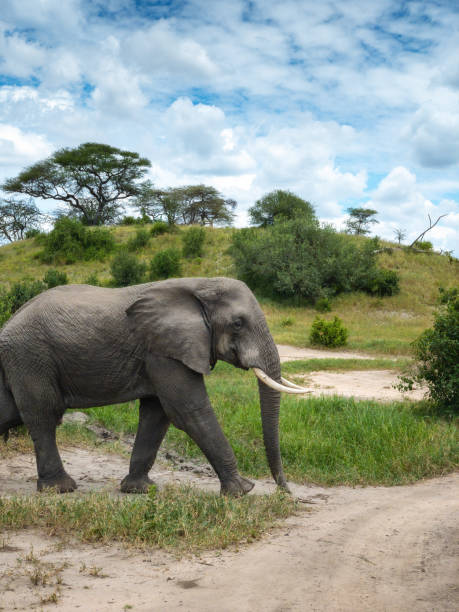africanelephant: (181, 278, 307, 402)
